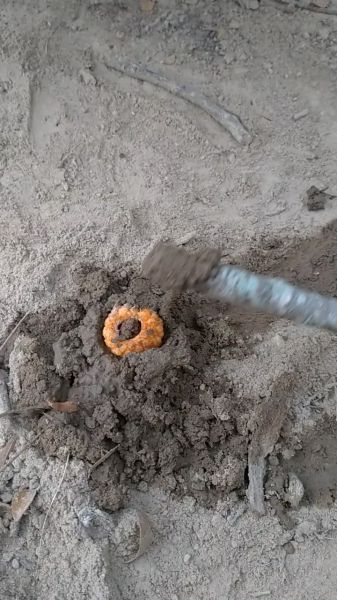eggs: (97, 296, 170, 365)
